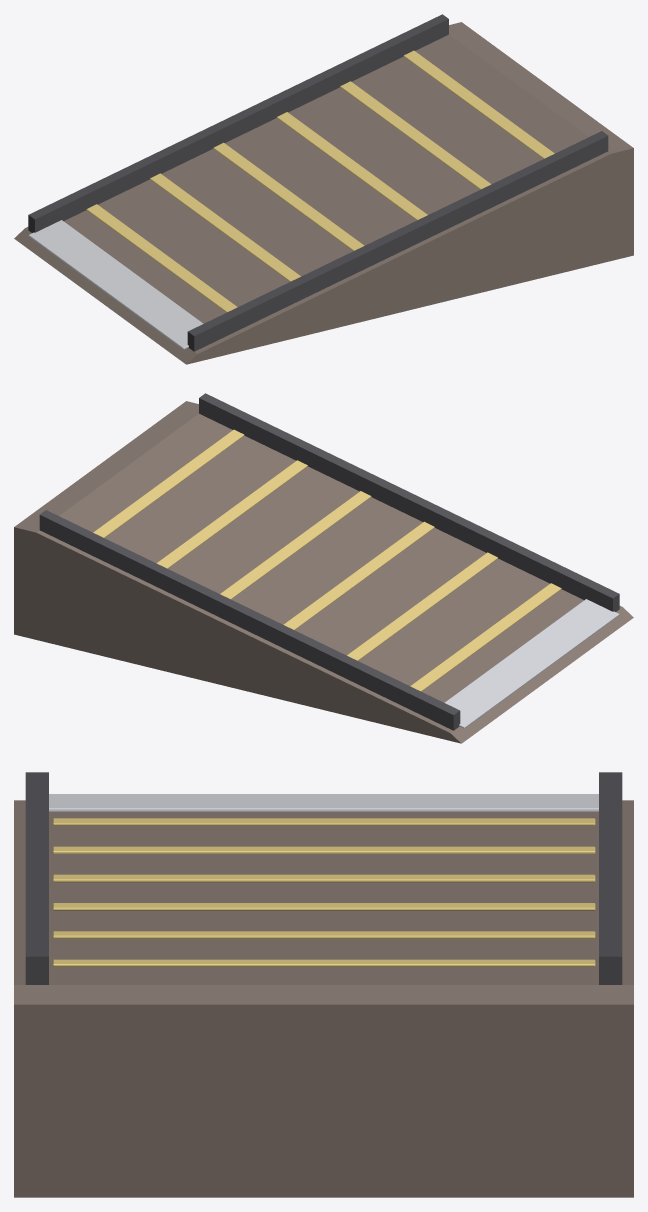
The model's file is theatre-stage-and-backstage-get-in-ramp-16be106b__35917.glb.
3 renders of one model, top to bottom at view 1: azimuth 30°, elevation 25°; view 2: azimuth 150°, elevation 25°; view 3: azimuth 270°, elevation 25°, orthographic. The views are drawn at different scales.
Parts seen in each view (by area): view 1: get-in-ramp; view 2: get-in-ramp; view 3: get-in-ramp.
Boxes of the visible parts, <box> form: get-in-ramp: <box>14,14,633,364</box>; get-in-ramp: <box>14,393,633,743</box>; get-in-ramp: <box>14,772,633,1197</box>.
Bounding box in the file's own units: 2.4 × 0.63 × 1.6.
